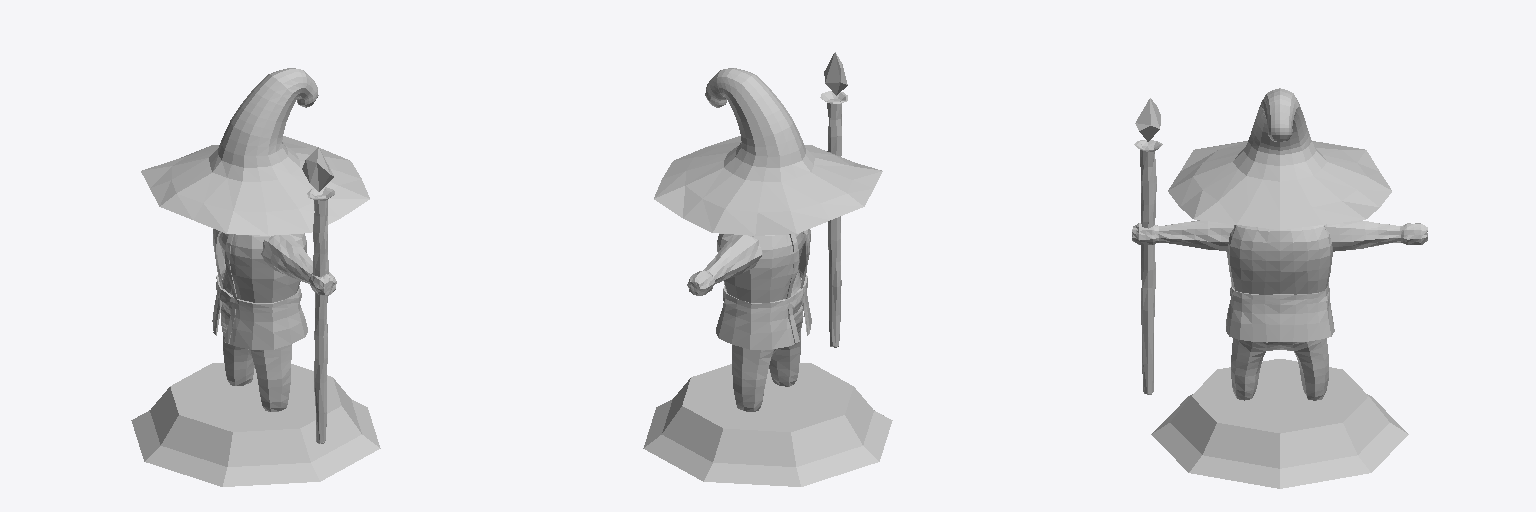
The model's file is mage.obj.
3 views of the same model, side by side, from view 1: azimuth 30°, elevation 25°; view 2: azimuth 150°, elevation 25°; view 3: azimuth 270°, elevation 25° (orthographic).
Visible parts, largest first — view 1: Podium, Hat, Cloak, Legs, Staff, Arms, StaffCrystal; view 2: Podium, Hat, Cloak, Legs, Staff, Arms, StaffCrystal, Hands; view 3: Podium, Hat, Cloak, Legs, Arms, Staff, Hands, StaffCrystal.
Part boxes in pixels (left/top/right/bottom): Podium: left=131, top=363, right=380, bottom=486; Hat: left=141, top=68, right=369, bottom=235; Cloak: left=212, top=229, right=307, bottom=349; Legs: left=221, top=304, right=291, bottom=411; Staff: left=307, top=187, right=334, bottom=443; Arms: left=261, top=235, right=312, bottom=283; StaffCrystal: left=302, top=147, right=333, bottom=191; Podium: left=643, top=363, right=892, bottom=486; Hat: left=654, top=68, right=882, bottom=235; Cloak: left=716, top=229, right=811, bottom=349; Legs: left=732, top=304, right=803, bottom=411; Staff: left=820, top=91, right=847, bottom=347; Arms: left=704, top=235, right=762, bottom=284; StaffCrystal: left=824, top=52, right=847, bottom=95; Hands: left=687, top=270, right=714, bottom=295; Podium: left=1151, top=359, right=1408, bottom=488; Hat: left=1168, top=88, right=1391, bottom=229; Cloak: left=1226, top=225, right=1334, bottom=342; Legs: left=1231, top=338, right=1328, bottom=400; Arms: left=1158, top=220, right=1400, bottom=251; Staff: left=1134, top=140, right=1162, bottom=394; Hands: left=1132, top=223, right=1427, bottom=244; StaffCrystal: left=1135, top=98, right=1160, bottom=141.
Bounding box in the file's own units: 2.19 × 3.35 × 2.52.